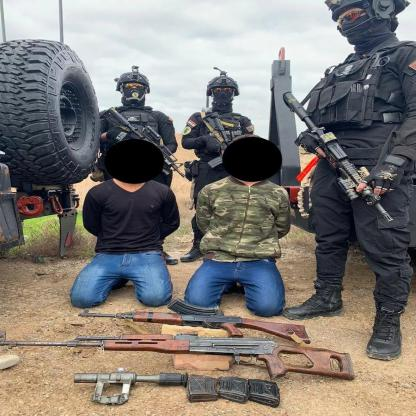rifle: (0, 330, 370, 381), (278, 92, 393, 221), (79, 308, 318, 342), (102, 107, 189, 178)
